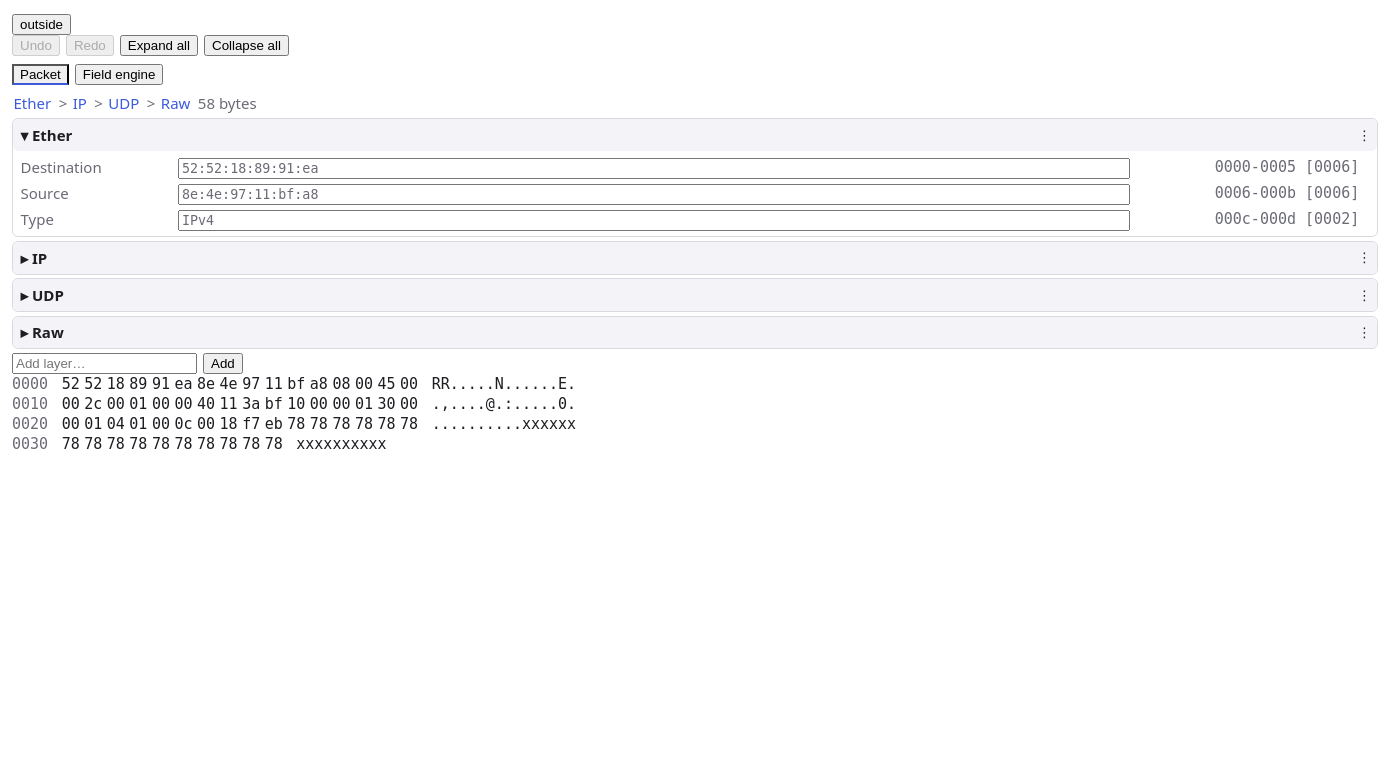
Scenario: PacketEditor › adding a layer collapses the others and opens the new one
The image size is (1390, 780).
Expected: the element with class "layer-list" is shown, [12,118,1378,349]
Click the button "▸ IP" at [24, 258], box [13,242,1352,274]
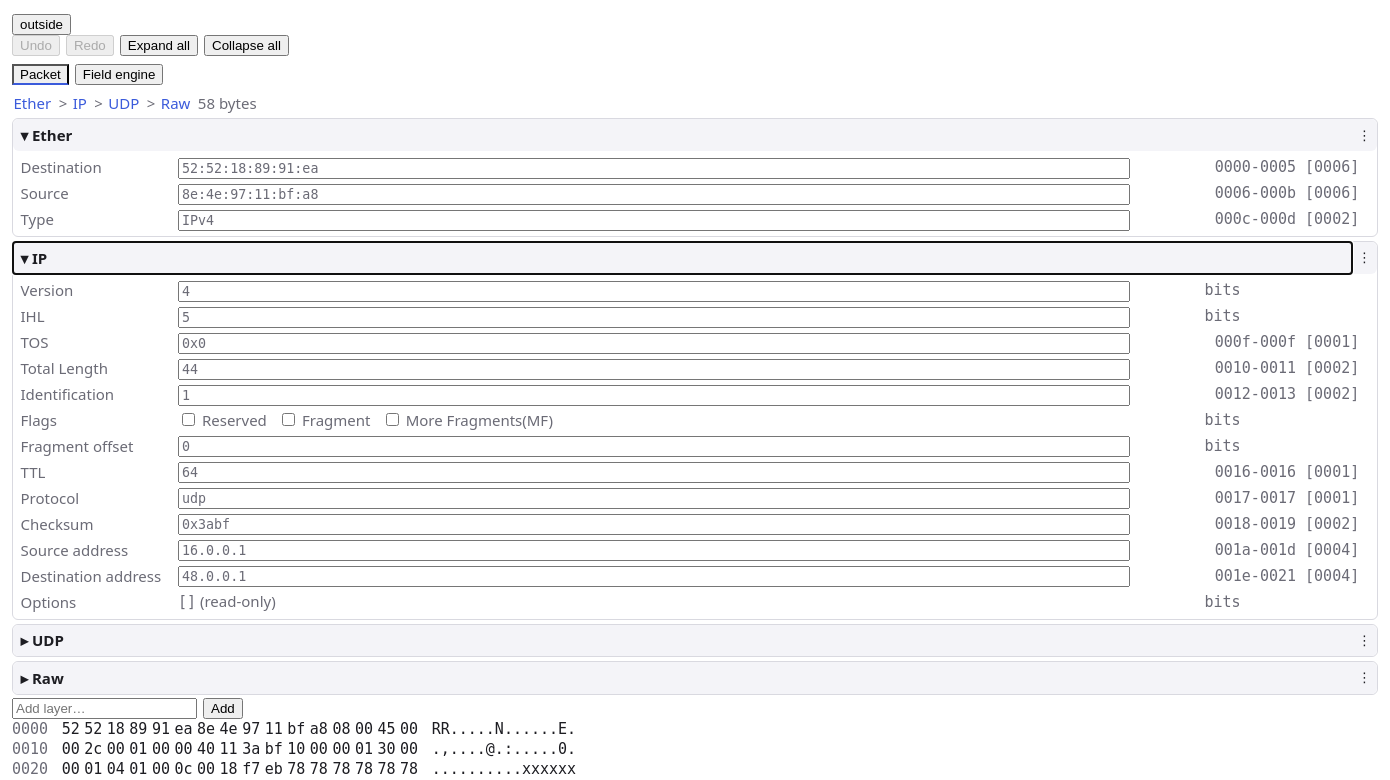
Type "TCP" into the field labelled "Add layer" at [104, 709], box [12,698,197,719]
Then press Enter
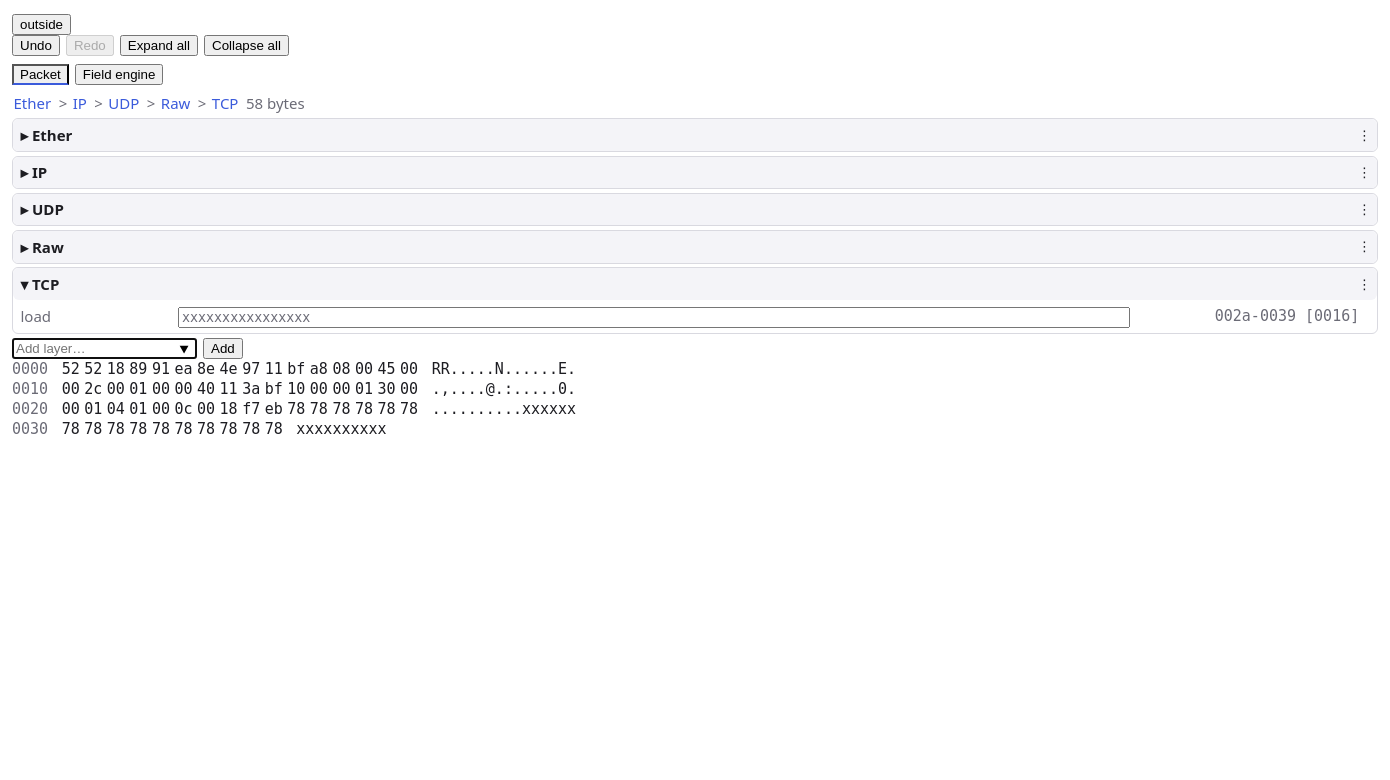
Now the button "▸ Ether" is collapsed, box [13,119,1352,151]
Now the button "▸ IP" is collapsed, box [13,156,1352,188]
Now the button "TCP" is shown, box [210,92,240,114]
